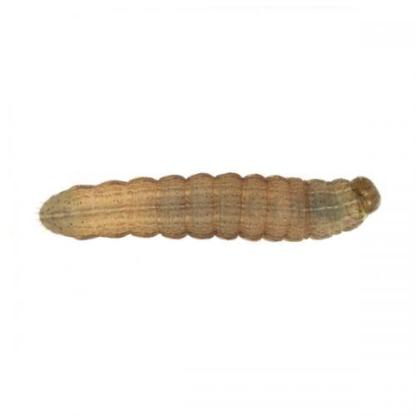oruga: (32, 171, 380, 242)
